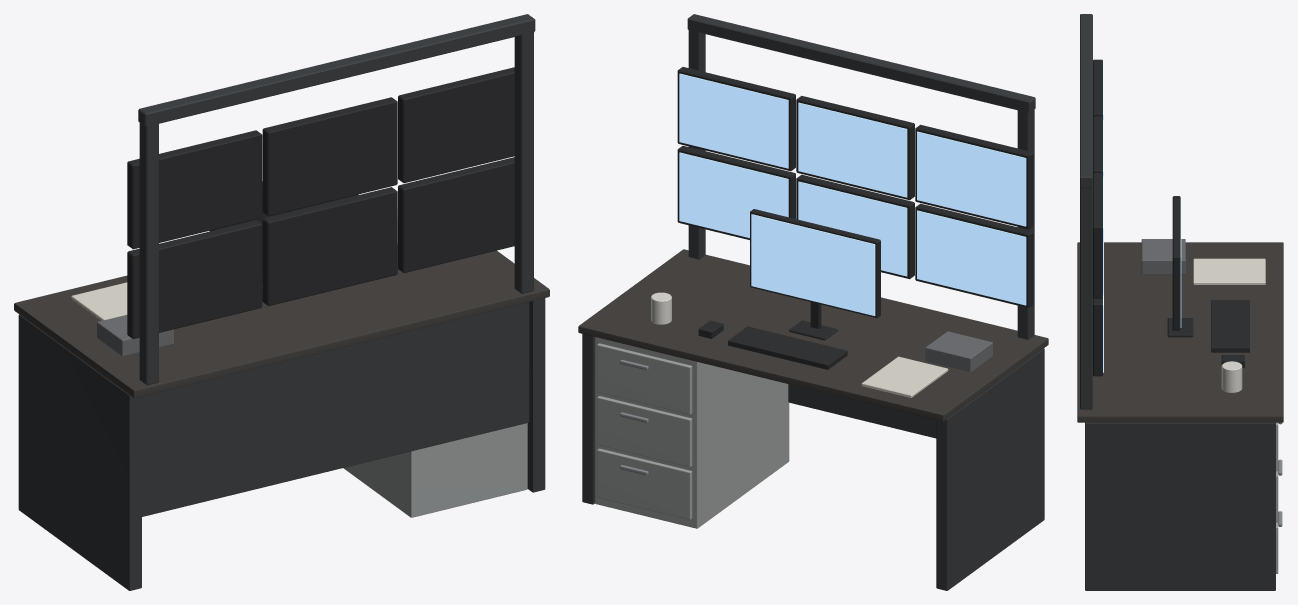
File: prop_camera_station.glb
3 renders of one model, left to right at view 1: azimuth 30°, elevation 25°; view 2: azimuth 150°, elevation 25°; view 3: azimuth 270°, elevation 25°, orthographic. The views are drawn at different scales.
Parts seen in each view (by area): view 1: Desk, Monitors; view 2: Desk, Screens, Monitors; view 3: Desk, Monitors, Screens.
Part boxes in pixels (left/top/right/bottom): Desk: left=14, top=207, right=549, bottom=590; Monitors: left=127, top=14, right=535, bottom=385; Desk: left=578, top=249, right=1048, bottom=590; Screens: left=679, top=73, right=1026, bottom=315; Monitors: left=677, top=14, right=1035, bottom=340; Desk: left=1077, top=239, right=1283, bottom=590; Monitors: left=1080, top=14, right=1193, bottom=409; Screens: left=1103, top=63, right=1181, bottom=372.
Size of the model in its own units: 1.6 by 1.75 by 0.8.
